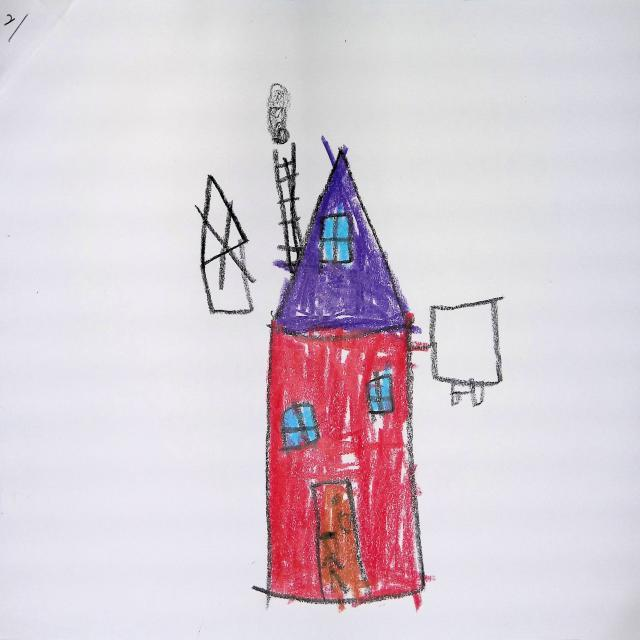chimney: (275, 150, 304, 266)
door: (314, 481, 370, 601)
house: (265, 146, 426, 606)
roof: (275, 147, 408, 334)
wall: (272, 324, 415, 596)
window: (283, 405, 319, 450), (322, 214, 352, 262), (369, 372, 392, 413)
